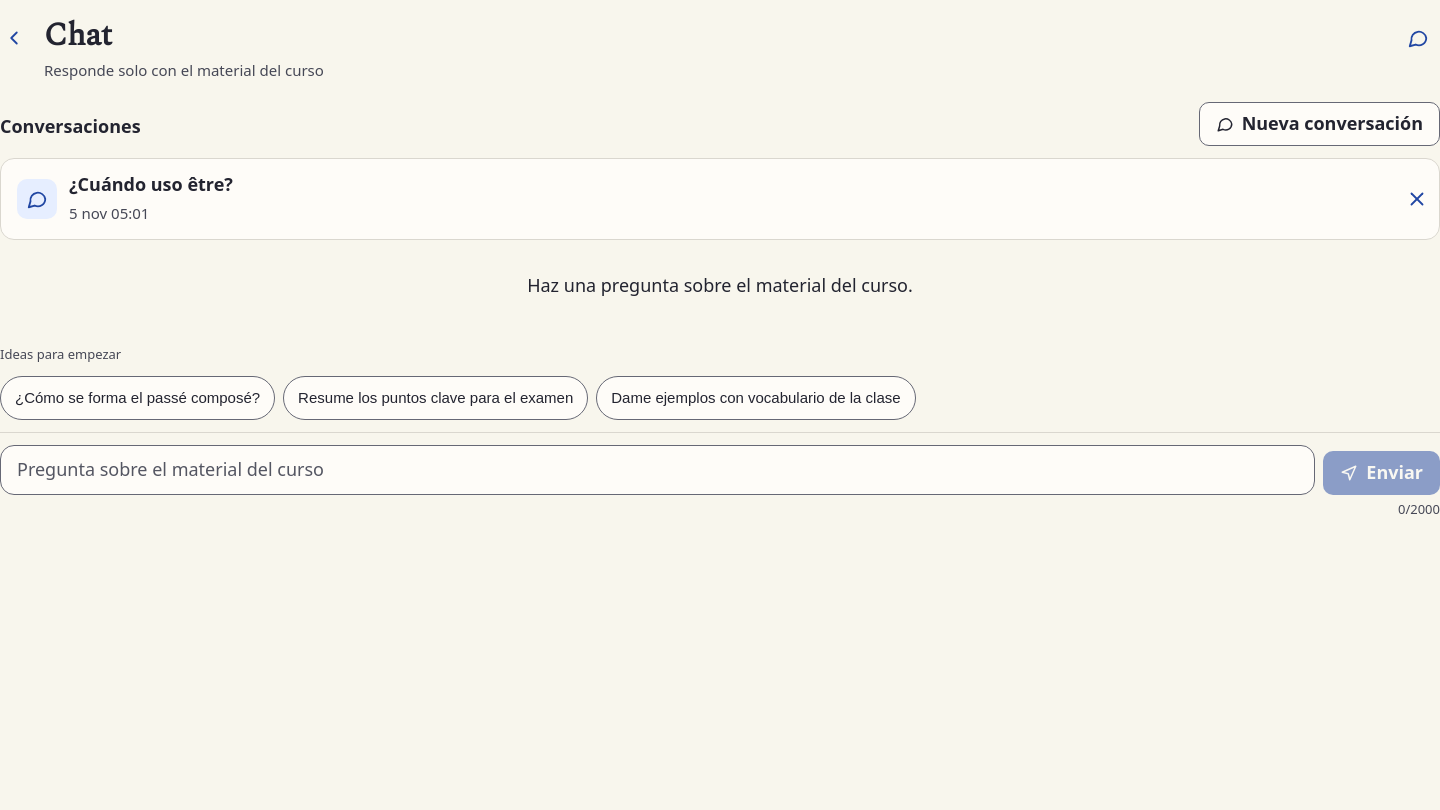
Test case: chips iniciales rellenan el compositor y Crear tarjeta abre diálogo prellenado
Step 1. Click the button "¿Cómo se forma el passé composé?" → click(138, 398), box left=0, top=376, right=275, bottom=420
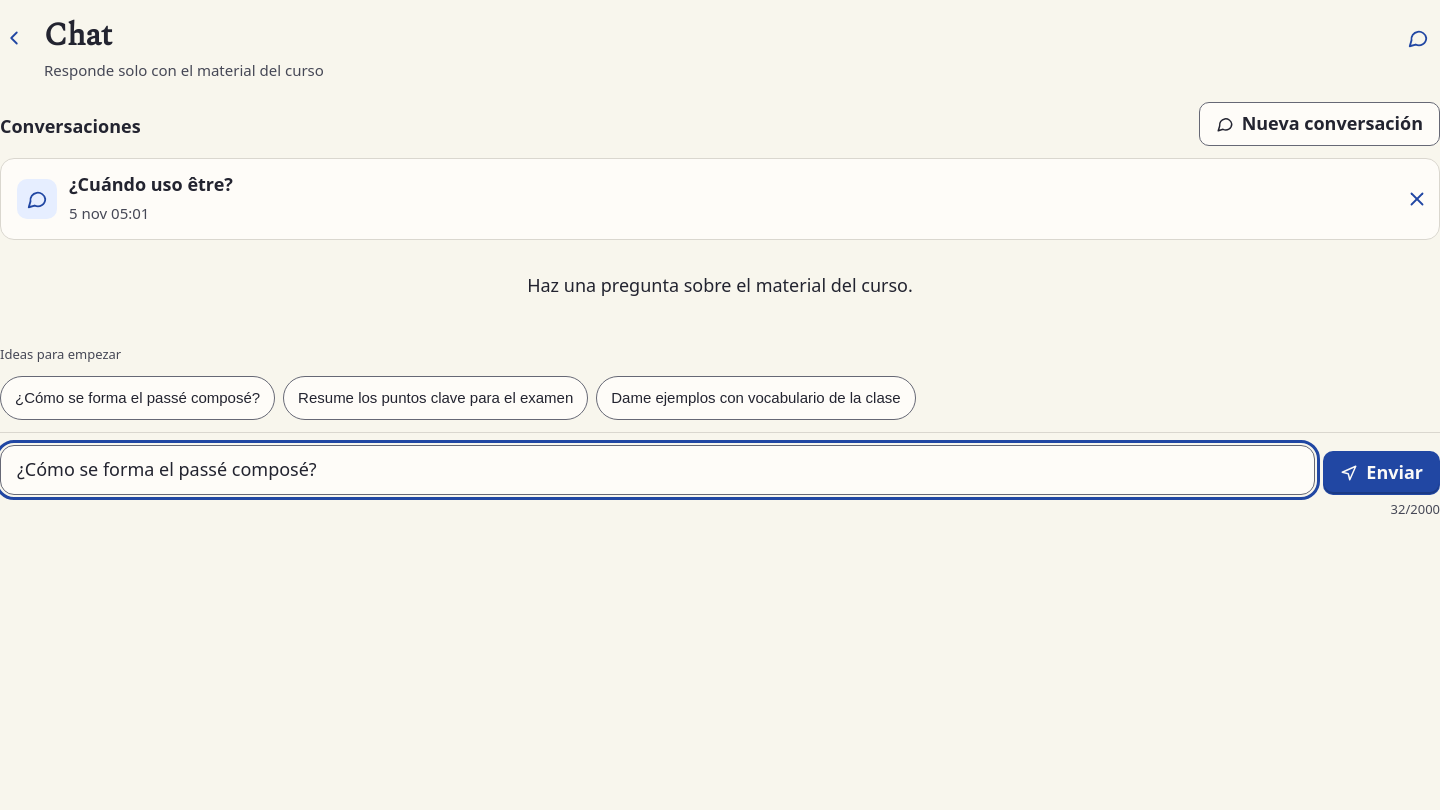
expect the text box named "Pregunta" holds "¿Cómo se forma el passé composé?": met, box left=0, top=445, right=1315, bottom=495
Step 2. Click the button "Enviar" → click(1382, 473), box left=1323, top=451, right=1439, bottom=495
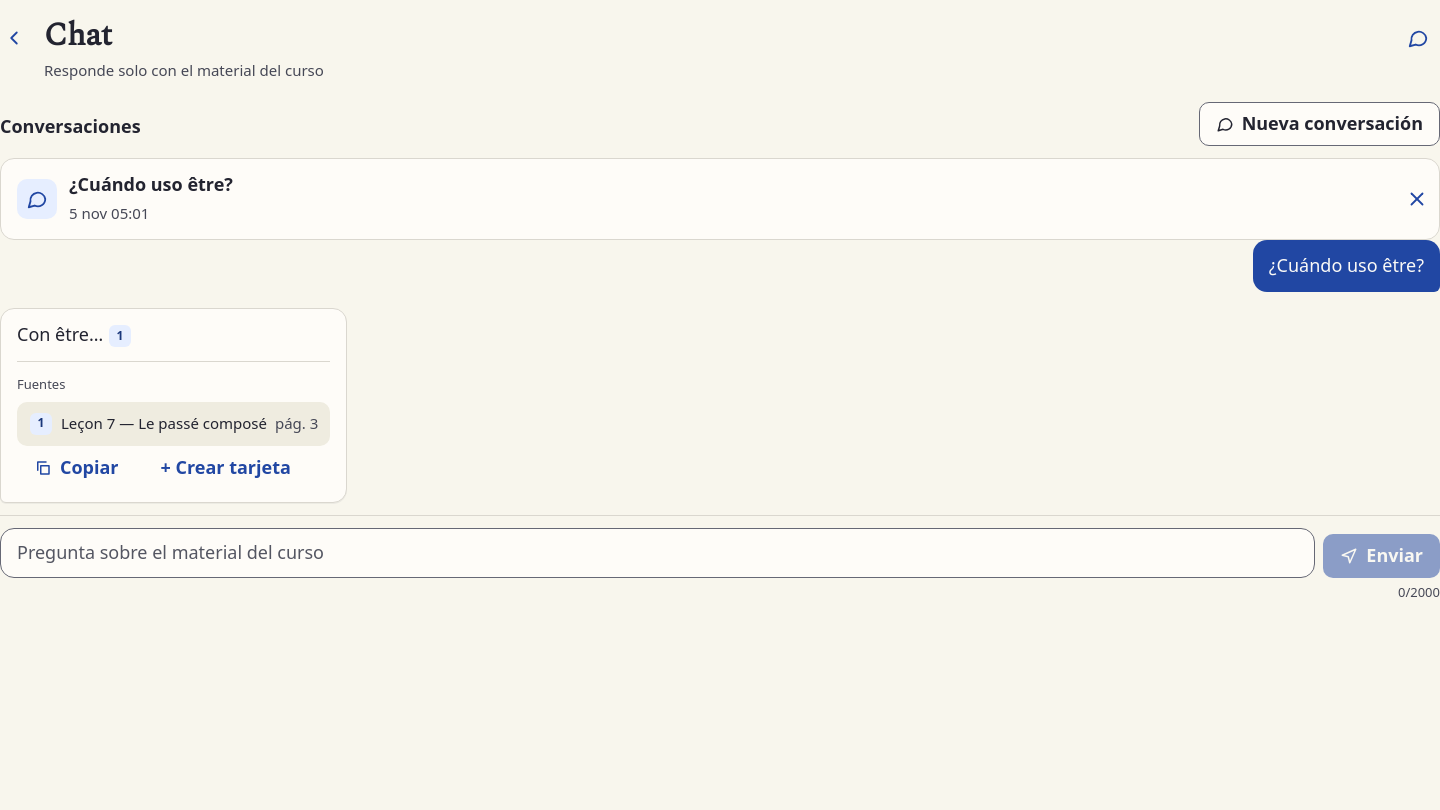
Step 3. Click the button "+ Crear tarjeta" → click(226, 468), box left=144, top=446, right=308, bottom=490
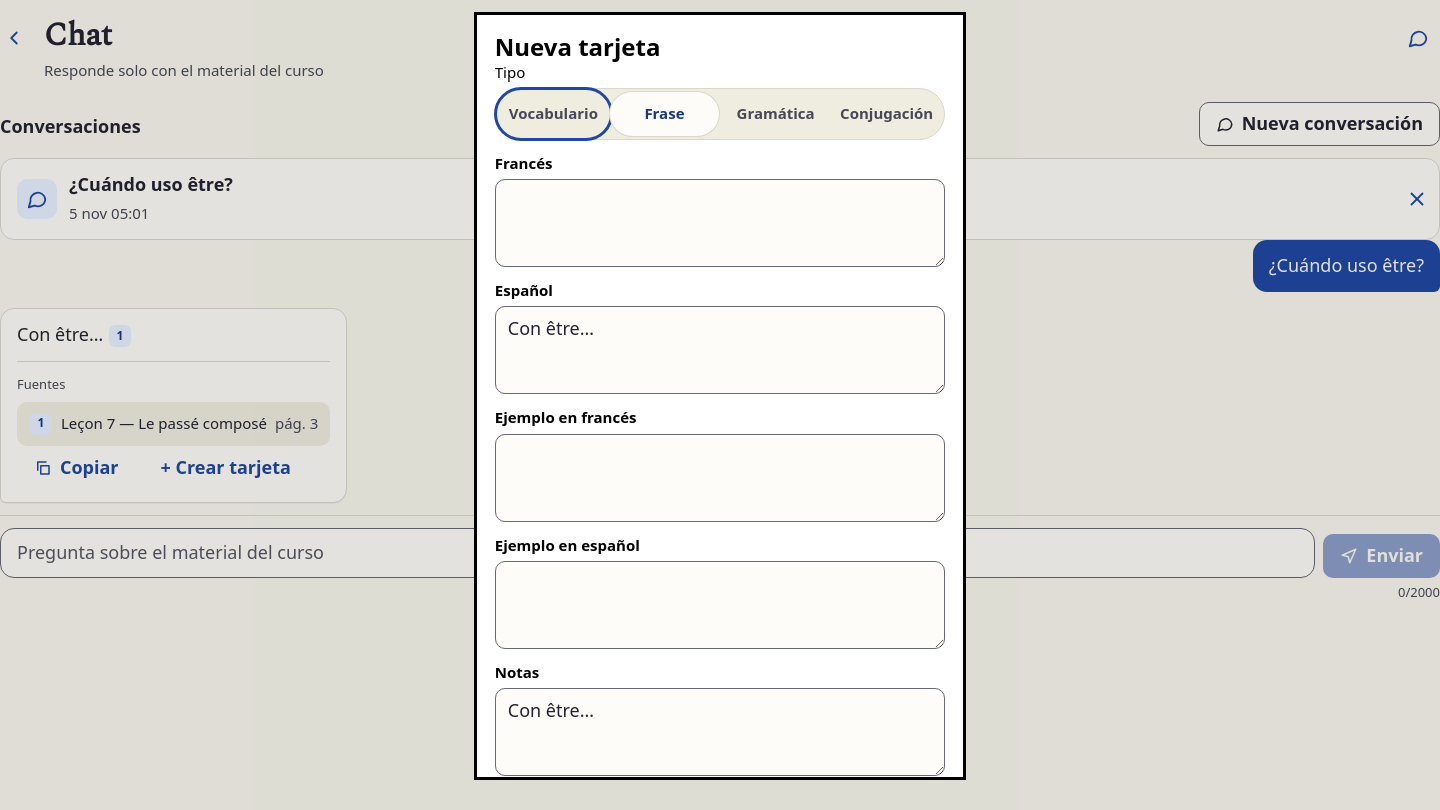
expect the text box labelled "Español" holds "Con être…": met, box left=495, top=306, right=945, bottom=394
expect the text box labelled "Notas" holds "Con être…": met, box left=495, top=688, right=945, bottom=776
